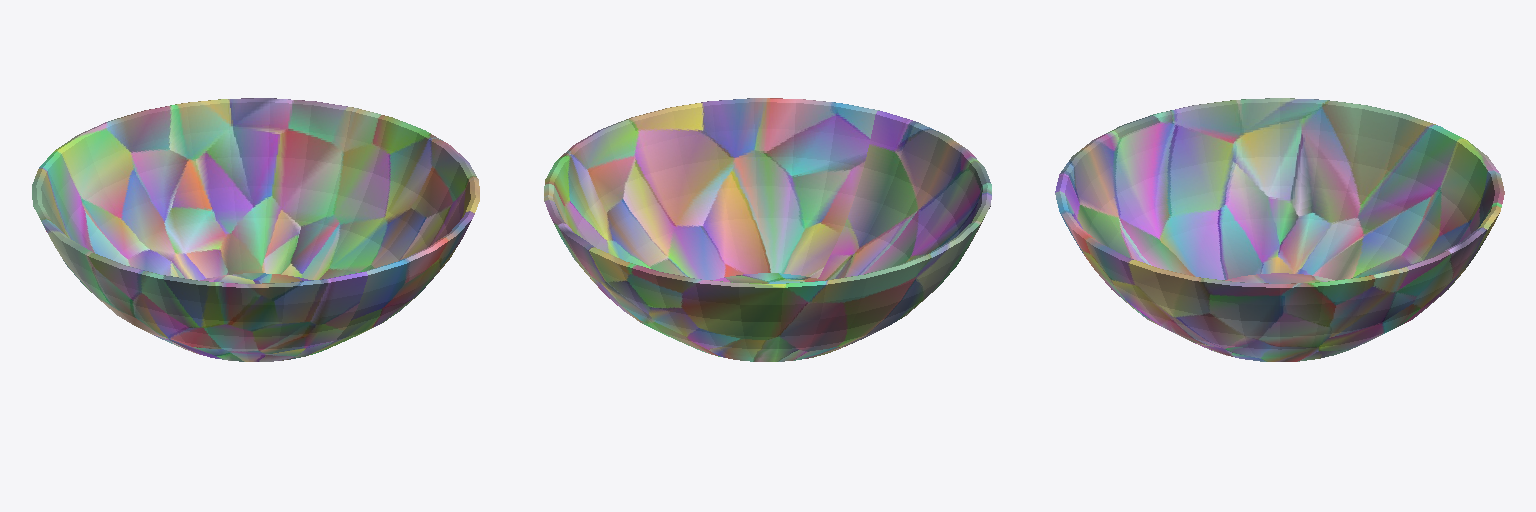
3 views of the same model, side by side, from view 1: azimuth 30°, elevation 25°; view 2: azimuth 150°, elevation 25°; view 3: azimuth 270°, elevation 25° (orthographic).
Parts seen in each view (by area): view 1: Pottery_Bowl_Mesh_Cylinder; view 2: Pottery_Bowl_Mesh_Cylinder; view 3: Pottery_Bowl_Mesh_Cylinder.
Boxes of the visible parts, x1=… form: Pottery_Bowl_Mesh_Cylinder: x1=32, y1=98, x2=479, y2=361; Pottery_Bowl_Mesh_Cylinder: x1=544, y1=98, x2=991, y2=361; Pottery_Bowl_Mesh_Cylinder: x1=1055, y1=98, x2=1504, y2=361.
Bounding box in the file's own units: 0.3161 × 0.1006 × 0.3161.
Materials: 1 (1 with a texture image).